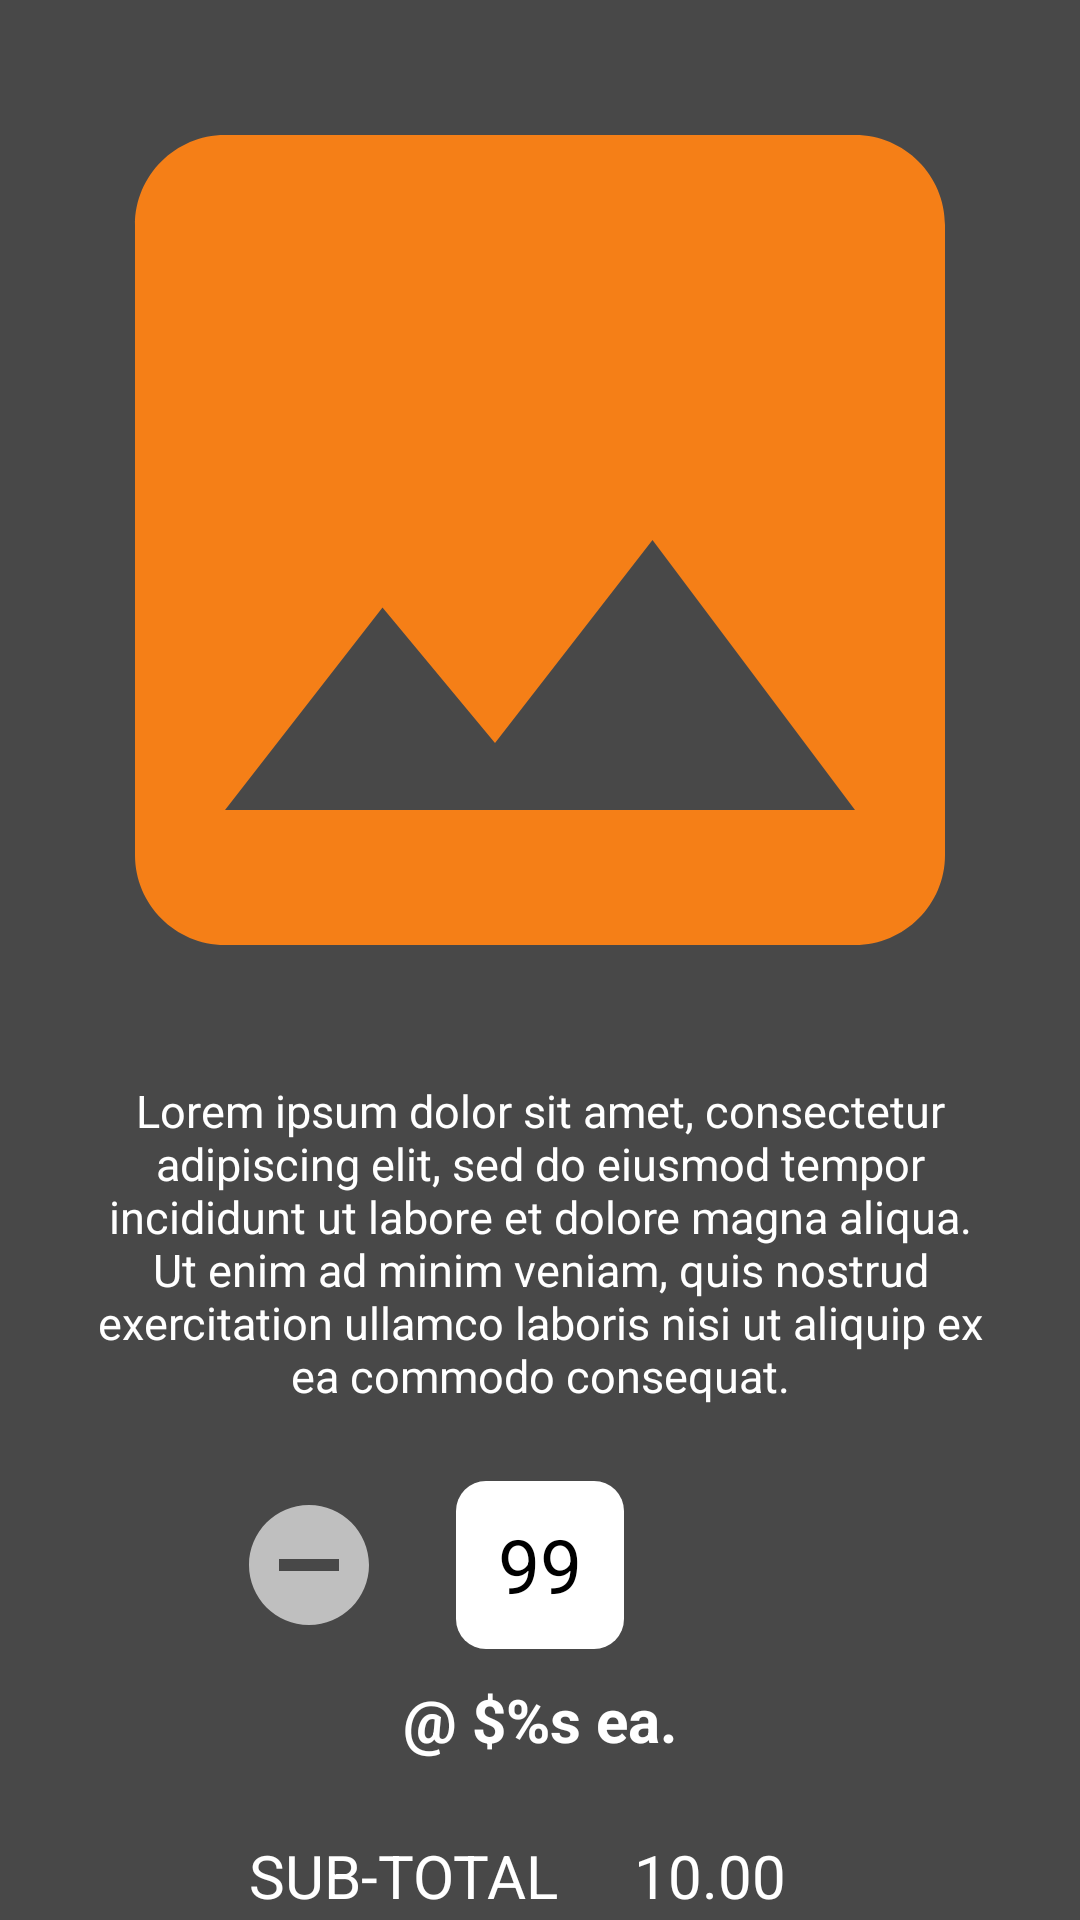

Screen size 1080w x 1920h. Icon name, then its box in pixels as (x1,y1,x2,y2):
remove circle: (249,1505,369,1625)
